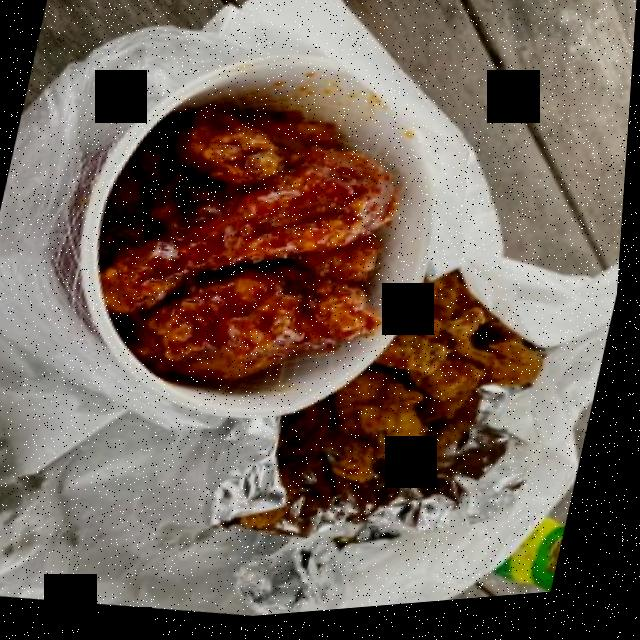Frango: (92, 98, 415, 419), (280, 254, 574, 580)
